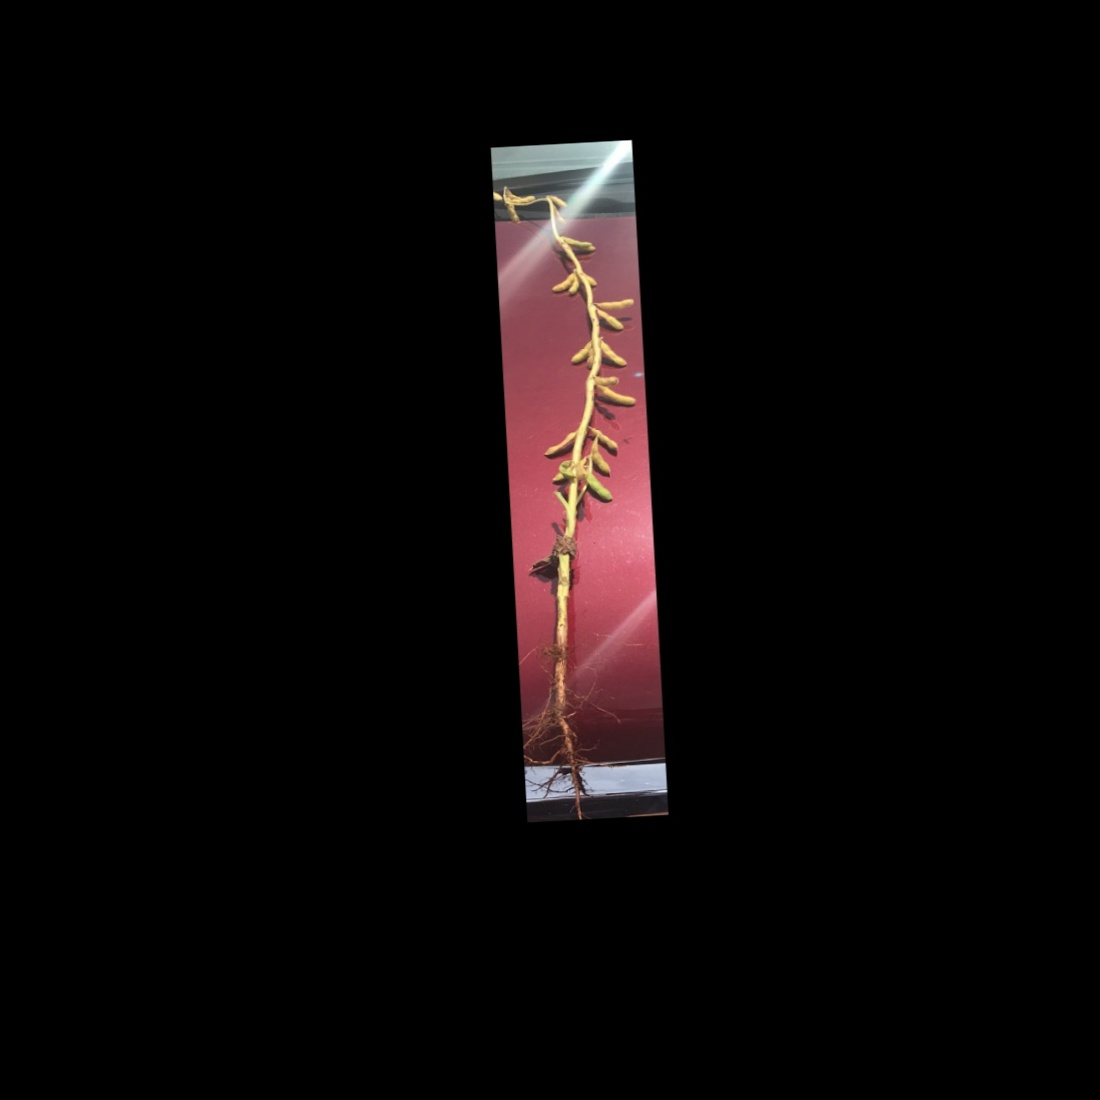pod: (593, 383, 639, 410), (584, 468, 614, 509), (588, 434, 614, 479), (598, 337, 634, 371), (543, 428, 579, 456), (595, 307, 625, 334), (592, 297, 638, 311), (504, 203, 524, 227), (549, 192, 572, 209), (584, 345, 597, 372), (552, 204, 568, 226)
soy: (492, 176, 658, 682)
